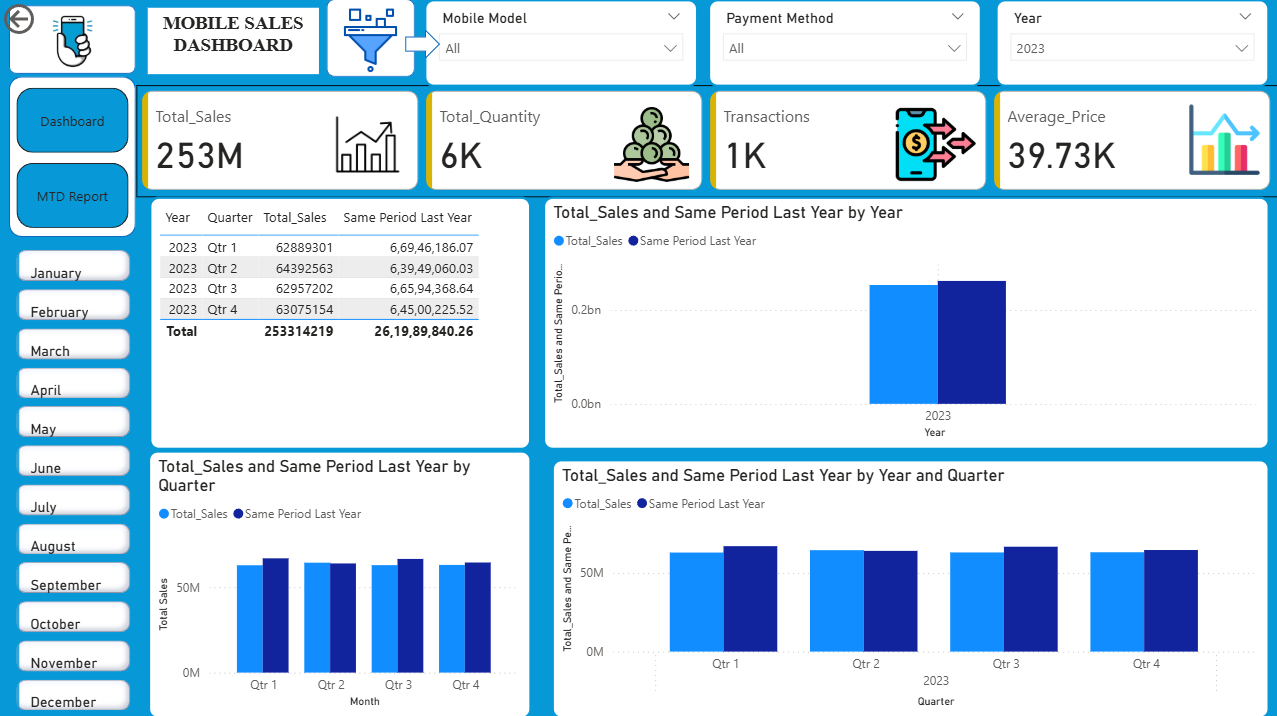

The dashboard page shown, as its layout file describes it:
{"tool":"powerbi","page":{"name":"Same Period Last Year","canvas":[1280,720],"ordinal":2},"visuals":[{"type":"shape","box":[10.5,5.8,126.7,68.6],"z":0},{"type":"image","box":[31.4,3.5,84.9,74.4],"z":1000},{"type":"shape","box":[10.5,77.9,126.7,160.5],"z":2000},{"type":"cardVisual","fields":{"Data":["Mobiles_Sales_Data.Total_Sales","Mobiles_Sales_Data.Total_Quantity","Mobiles_Sales_Data.Transactions","Mobiles_Sales_Data.Average_Price"]},"box":[137.2,86,1143,111.6],"z":3000},{"type":"slicer","fields":{"Values":["Mobiles_Sales_Data.Mobile Model"]},"box":[425.6,0,274.4,88.4],"z":4000},{"type":"slicer","fields":{"Values":["Mobiles_Sales_Data.Payment Method"]},"box":[709.3,0,274.4,88.4],"z":5000},{"type":"slicer","fields":{"Values":["Custom_Calender.Date.Variation.Date Hierarchy.Year"]},"box":[996.5,0,274.4,88.4],"z":6000},{"type":"shape","box":[148.8,8.1,170.9,66.3],"z":7000},{"type":"shape","box":[327.9,0,88.4,77.9],"z":8000},{"type":"image","box":[327.9,3.5,88.4,75.6],"z":9000},{"type":"shape","box":[405.8,30.2,34.9,30.2],"z":10000},{"type":"textbox","box":[148.8,8.1,170.9,66.3],"z":11000},{"type":"tableEx","fields":{"Values":["Custom_Calender.Date.Variation.Date Hierarchy.Year","Custom_Calender.Date.Variation.Date Hierarchy.Quarter","Mobiles_Sales_Data.Total_Sales","Mobiles_Sales_Data.Same Period Last Year"]},"box":[150,197.5,382.5,253.8],"z":12000},{"type":"actionButton","box":[0,0,100,40],"z":13000},{"type":"advancedSlicerVisual","fields":{"Values":["Custom_Calender.Date.Variation.Date Hierarchy.Month"]},"box":[12.8,246.5,124.4,473.3],"z":14000},{"type":"clusteredColumnChart","fields":{"Category":["Custom_Calender.Date.Variation.Date Hierarchy.Year","Custom_Calender.Date.Variation.Date Hierarchy.Quarter","Custom_Calender.Date.Variation.Date Hierarchy.Month","Custom_Calender.Date.Variation.Date Hierarchy.Day"],"Y":["Mobiles_Sales_Data.Total_Sales","Mobiles_Sales_Data.Same Period Last Year"]},"box":[543.8,197.5,727.5,253.8],"z":14001},{"type":"clusteredColumnChart","fields":{"Category":["Custom_Calender.Date.Variation.Date Hierarchy.Year","Custom_Calender.Date.Variation.Date Hierarchy.Quarter","Custom_Calender.Date.Variation.Date Hierarchy.Month","Custom_Calender.Date.Variation.Date Hierarchy.Day"],"Y":["Mobiles_Sales_Data.Total_Sales","Mobiles_Sales_Data.Same Period Last Year"]},"box":[148.8,451.2,383.8,268.8],"z":14002},{"type":"clusteredColumnChart","fields":{"Category":["Custom_Calender.Date.Variation.Date Hierarchy.Year","Custom_Calender.Date.Variation.Date Hierarchy.Quarter","Custom_Calender.Date.Variation.Date Hierarchy.Month","Custom_Calender.Date.Variation.Date Hierarchy.Day"],"Y":["Mobiles_Sales_Data.Total_Sales","Mobiles_Sales_Data.Same Period Last Year"]},"box":[552.5,460,718.8,260],"z":14003},{"type":"pageNavigator","box":[17.5,88.8,112.5,141.2],"z":14004}]}

Visuals, with their boxes in screenshot pixels (x1, y1, x2, y2), scaled from the page's 1280x720 canvas onto the 1277x716 screenshot:
shape: bbox=(10, 6, 137, 74)
image: bbox=(31, 3, 116, 77)
shape: bbox=(10, 77, 137, 237)
cardVisual - Mobiles_Sales_Data.Total_Sales x Mobiles_Sales_Data.Total_Quantity: bbox=(137, 86, 1276, 197)
slicer - Mobiles_Sales_Data.Mobile Model: bbox=(425, 0, 698, 88)
slicer - Mobiles_Sales_Data.Payment Method: bbox=(708, 0, 981, 88)
slicer - Custom_Calender.Date.Variation.Date Hierarchy.Year: bbox=(994, 0, 1268, 88)
shape: bbox=(148, 8, 319, 74)
shape: bbox=(327, 0, 415, 77)
image: bbox=(327, 3, 415, 79)
shape: bbox=(405, 30, 440, 60)
textbox: bbox=(148, 8, 319, 74)
tableEx - Custom_Calender.Date.Variation.Date Hierarchy.Year x Custom_Calender.Date.Variation.Date Hierarchy.Quarter: bbox=(150, 196, 531, 449)
actionButton: bbox=(0, 0, 100, 40)
advancedSlicerVisual - Custom_Calender.Date.Variation.Date Hierarchy.Month: bbox=(13, 245, 137, 715)
clusteredColumnChart - Custom_Calender.Date.Variation.Date Hierarchy.Year x Custom_Calender.Date.Variation.Date Hierarchy.Quarter: bbox=(543, 196, 1268, 449)
clusteredColumnChart - Custom_Calender.Date.Variation.Date Hierarchy.Year x Custom_Calender.Date.Variation.Date Hierarchy.Quarter: bbox=(148, 449, 531, 715)
clusteredColumnChart - Custom_Calender.Date.Variation.Date Hierarchy.Year x Custom_Calender.Date.Variation.Date Hierarchy.Quarter: bbox=(551, 457, 1268, 715)
pageNavigator: bbox=(17, 88, 130, 229)
